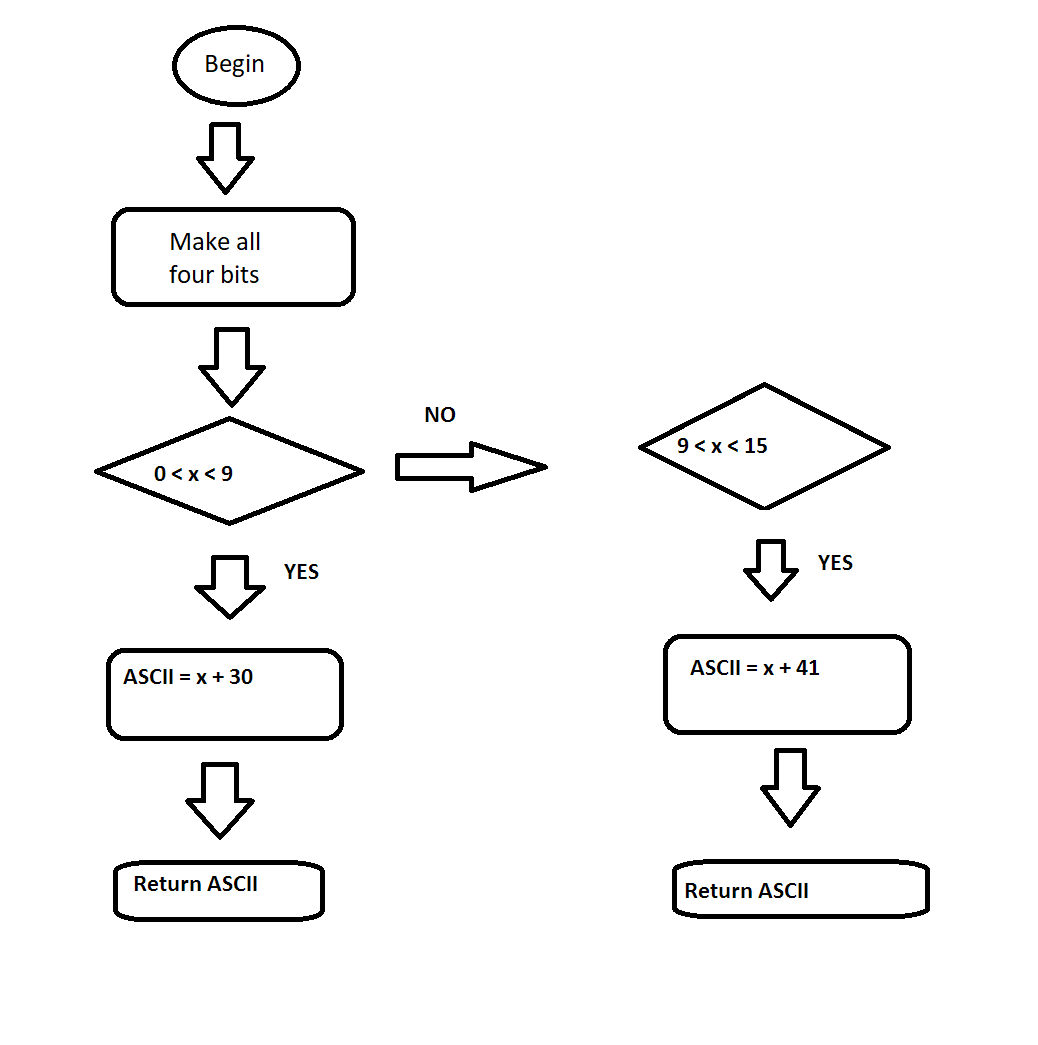arrow: (386, 444, 551, 499), (182, 755, 259, 842), (195, 321, 268, 409), (757, 740, 824, 834), (192, 548, 262, 623), (192, 112, 252, 196), (741, 536, 798, 606)
decision: (640, 383, 890, 513), (95, 417, 363, 528)
process: (662, 631, 916, 737), (108, 204, 359, 309), (100, 642, 346, 748), (667, 856, 935, 921), (108, 858, 329, 929)
terminator: (168, 23, 302, 107)
text: (165, 228, 263, 286), (687, 653, 821, 680), (121, 664, 254, 691), (129, 869, 260, 896), (679, 879, 816, 902), (668, 434, 773, 459), (146, 461, 238, 485), (202, 48, 267, 80), (814, 548, 857, 577), (416, 401, 457, 428), (276, 561, 319, 585)
